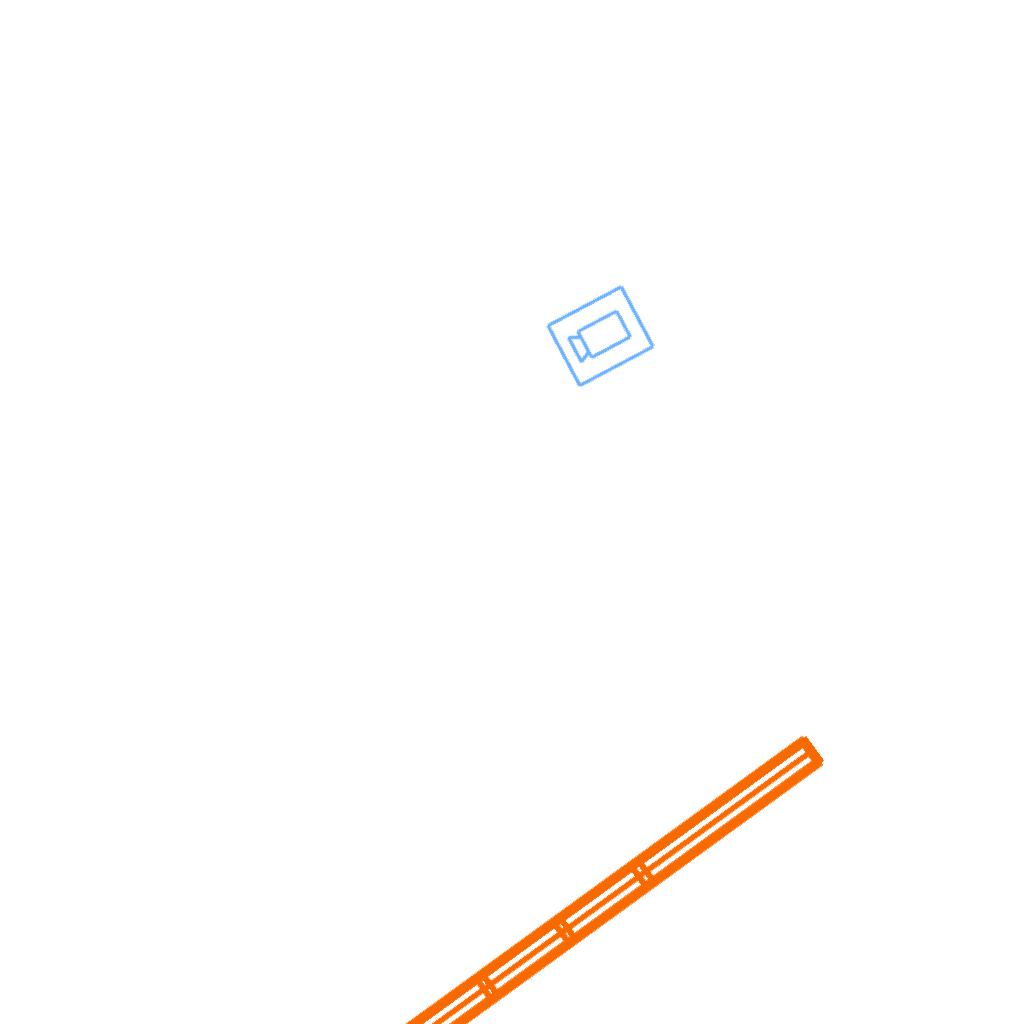Ambulanz_Pendelleuchte_LED: (179, 717, 873, 1024)
KFO_Kamera_mit_Festobjektiv: (542, 280, 659, 391)
